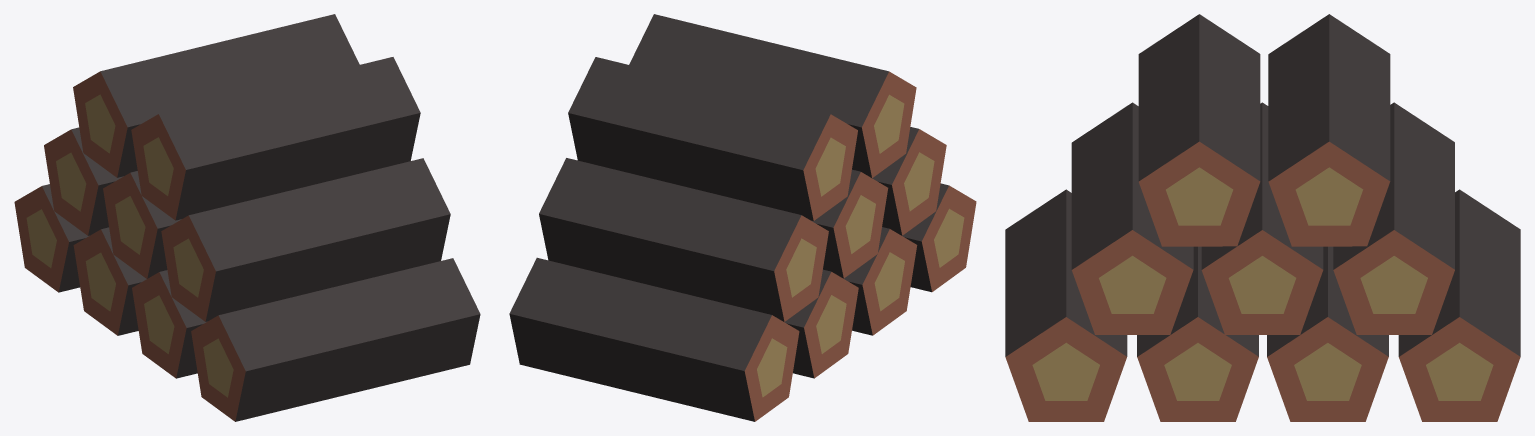
The model's file is TB_Prop_LumberPile_Med_C.FBX.
The picture shows the model from 3 angles, left to right: view 1: azimuth 30°, elevation 25°; view 2: azimuth 150°, elevation 25°; view 3: azimuth 270°, elevation 25°; orthographic projection. The views are drawn at different scales.
Visible parts, largest first — view 1: TB_Prop_LumberPile_Med_C; view 2: TB_Prop_LumberPile_Med_C; view 3: TB_Prop_LumberPile_Med_C.
Boxes of the visible parts, x1,y1,x2,y2 form: TB_Prop_LumberPile_Med_C: [14, 14, 480, 421]; TB_Prop_LumberPile_Med_C: [509, 14, 976, 421]; TB_Prop_LumberPile_Med_C: [1005, 14, 1520, 421].
Bounding box in the file's own units: 1.65 × 1.7 × 2.82.
